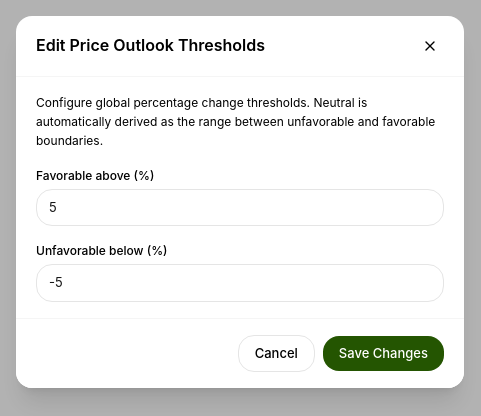
Test: EditPriceOutlookModal › reports success only after the write resolves
What coordinates should you click on to do the following:
click the button "Save Changes"
I would click on:
 (383, 353)
Its box is [323,336,444,371].
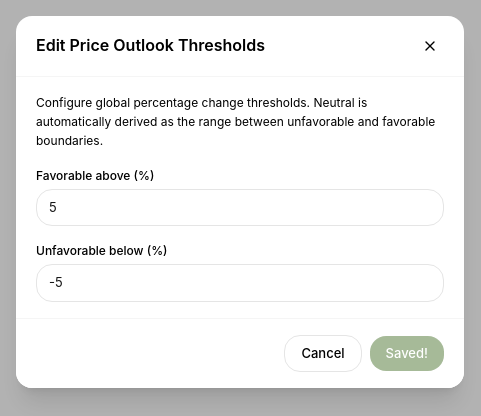
Expected: the button named "saving" is disabled, [370,336,444,371]
